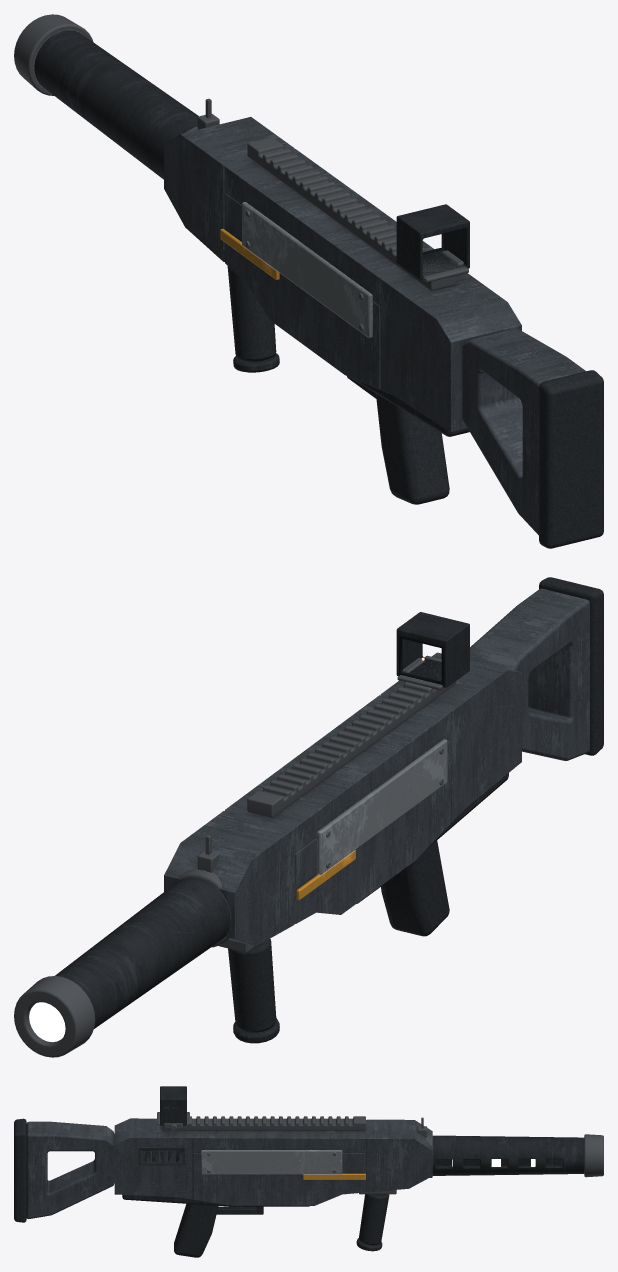
The model's file is pc7_body.glb.
3 renders of one model, top to bottom at view 1: azimuth 30°, elevation 25°; view 2: azimuth 150°, elevation 25°; view 3: azimuth 270°, elevation 25°, orthographic. The views are drawn at different scales.
Visible parts, largest first — view 1: pc7_body; view 2: pc7_body; view 3: pc7_body.
Part boxes in pixels (x1=…): pc7_body: x1=14, y1=14, x2=603, y2=548; pc7_body: x1=14, y1=577, x2=603, y2=1057; pc7_body: x1=14, y1=1086, x2=603, y2=1257.
Size of the model in its own units: 0.067 by 0.2264 by 0.751.
Materials: 4 (1 with a texture image).
